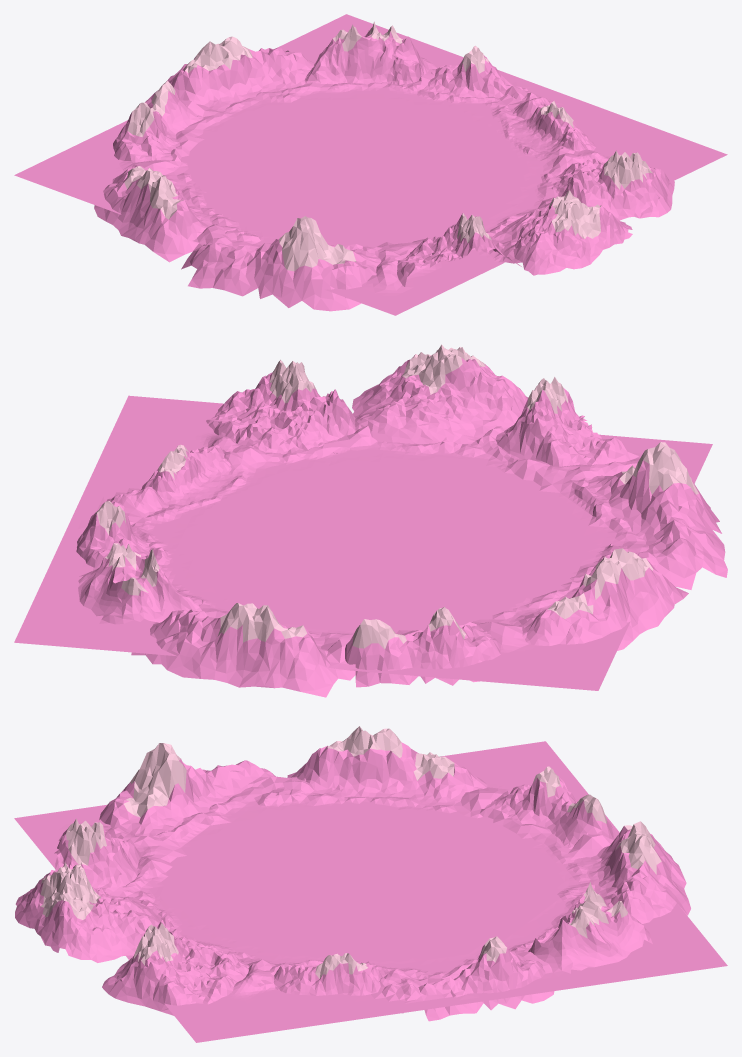
The model's file is Mountain_d5.fbx.
3 views of the same model, one above another, from view 1: azimuth 30°, elevation 25°; view 2: azimuth 150°, elevation 25°; view 3: azimuth 270°, elevation 25° (orthographic). The views are drawn at different scales.
Visible parts, largest first — view 1: Plane.909; view 2: Plane.909; view 3: Plane.909.
Part boxes in pixels (x1,y1,x2,y2): Plane.909: (14, 14, 727, 315); Plane.909: (14, 344, 727, 697); Plane.909: (14, 726, 727, 1042).
Bounding box in the file's own units: 472743 × 58302 × 472743.
